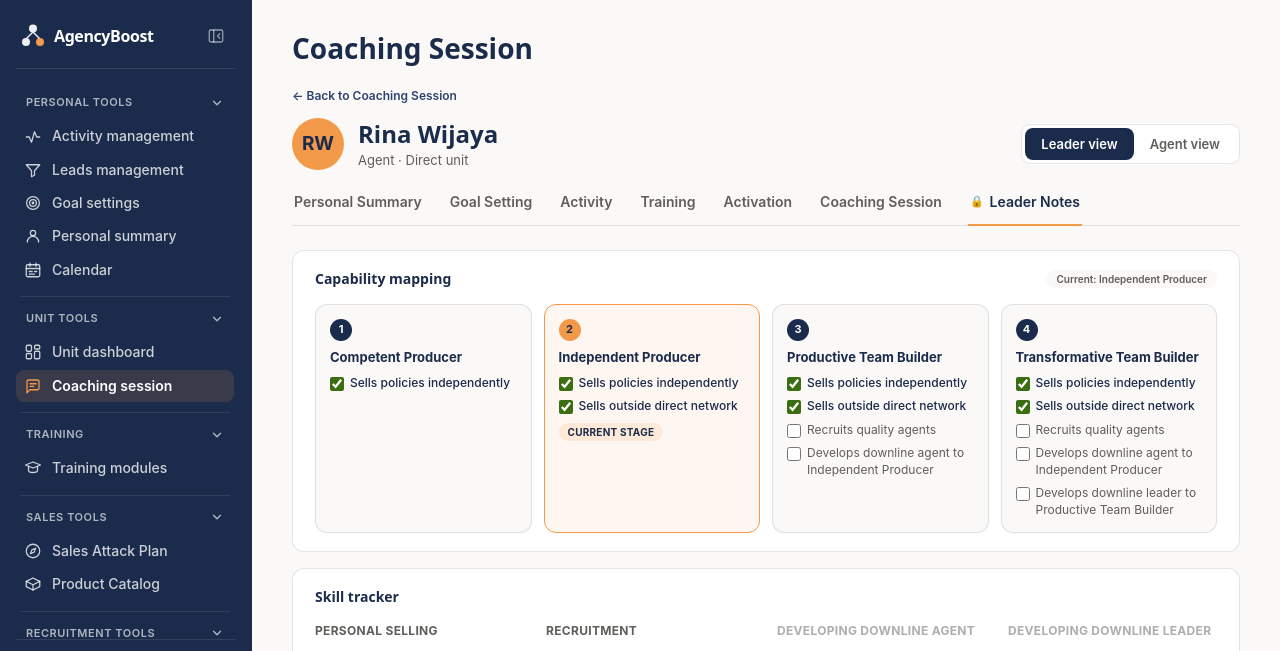
Scenario: the Leader Notes tab (P11-T9) › Capability mapping › shows any other refused save above the cards, and puts the boxes back as the server holds them
Step 1. Click the 1st checkbox labelled "Recruits quality agents" → (794, 431), box [787,424,801,438]
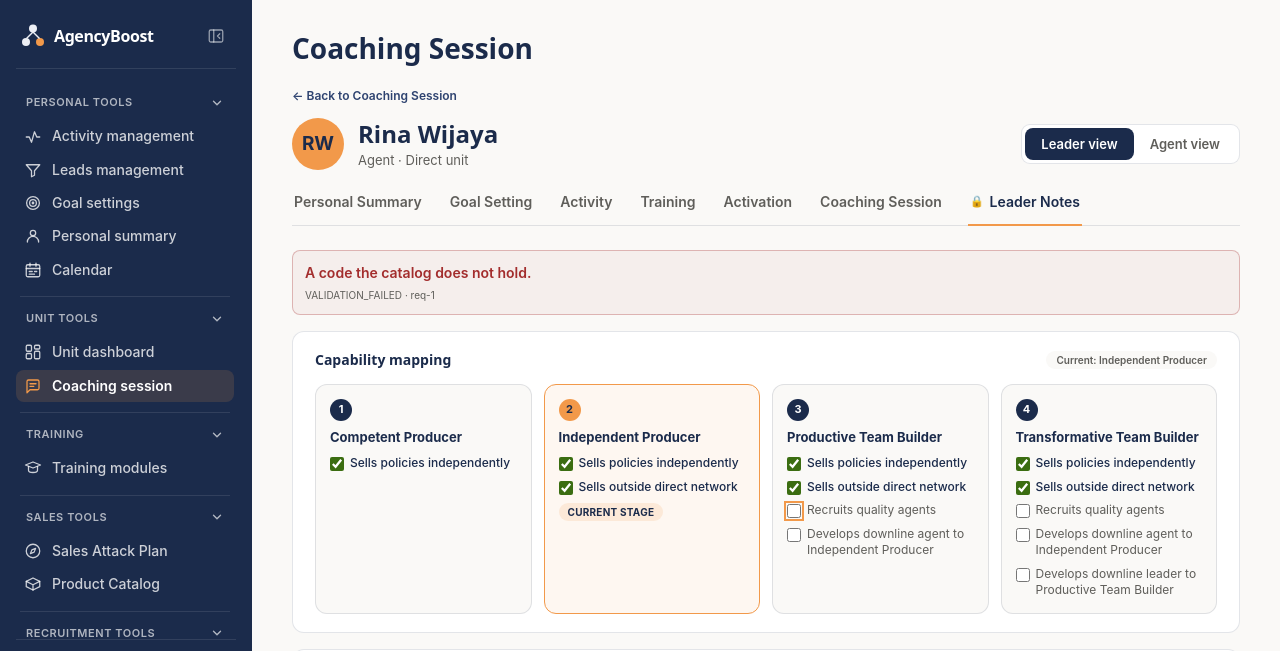
Expected: the 1st checkbox labelled "Recruits quality agents" is not checked, [787,504,801,518]
Expected: the message shows "A code the catalog does not hold.", [305,264,531,281]
